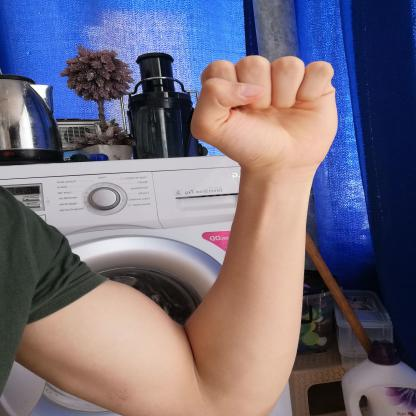SAD: (175, 41, 355, 187)
